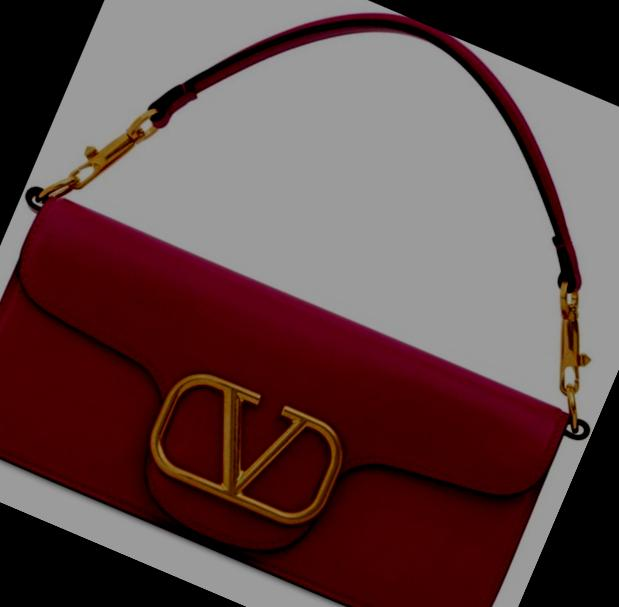VALENTINO: (137, 359, 354, 536)
